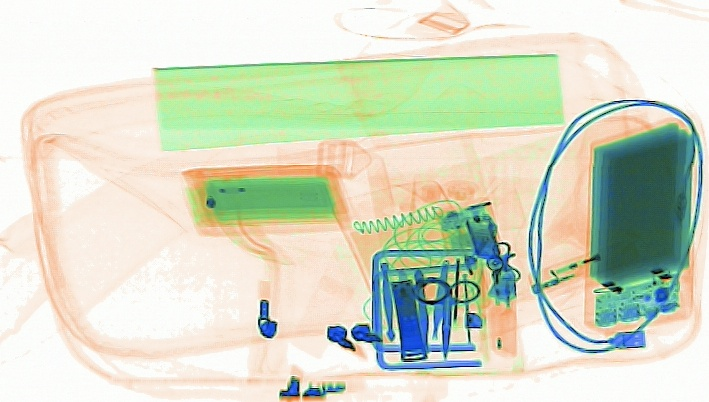lighter: (527, 237, 639, 296)
scissors: (413, 275, 481, 361)
